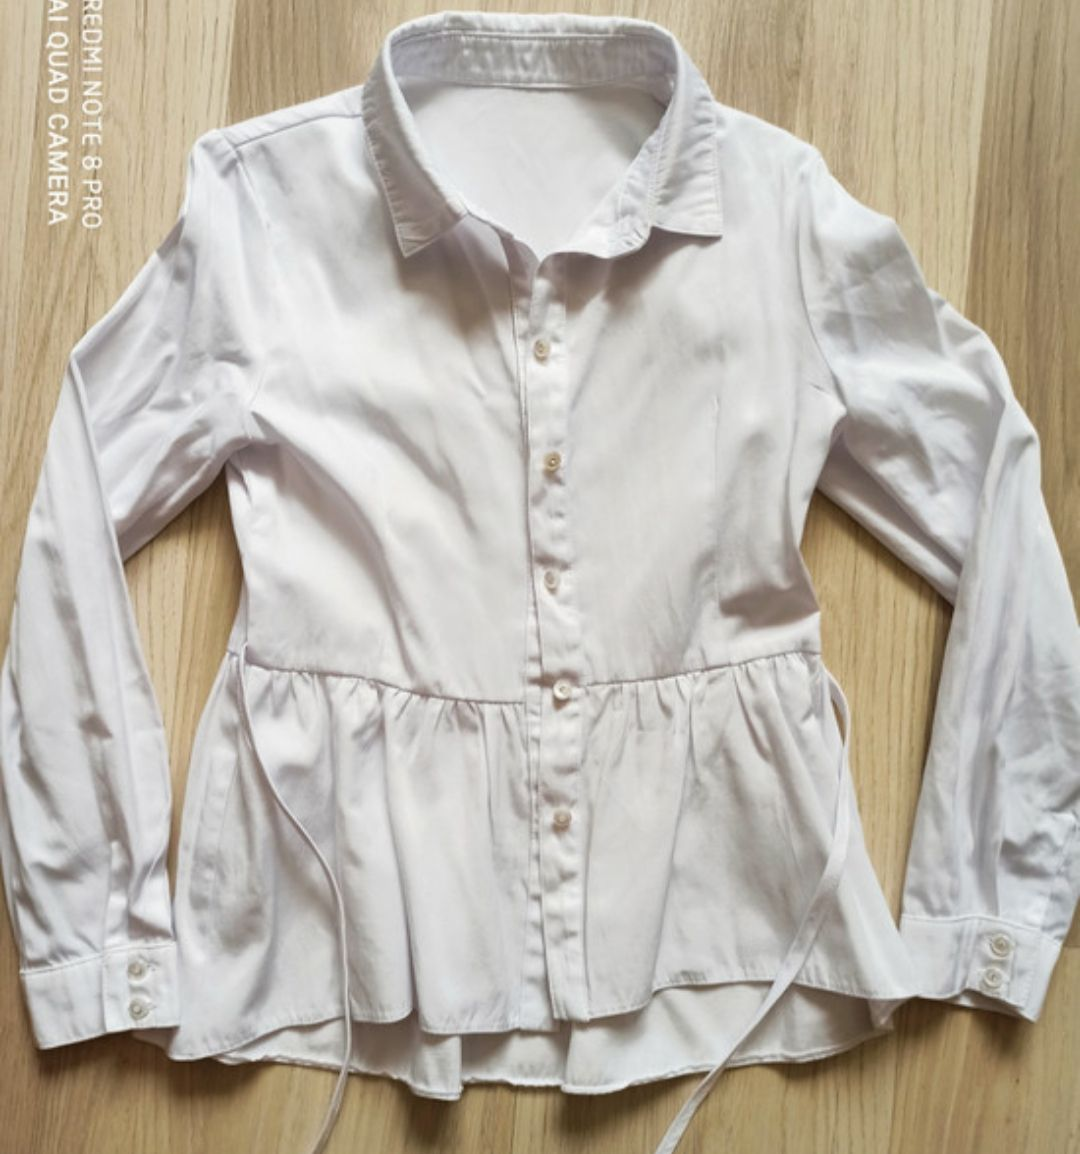clothes: (3, 3, 1080, 1112)
